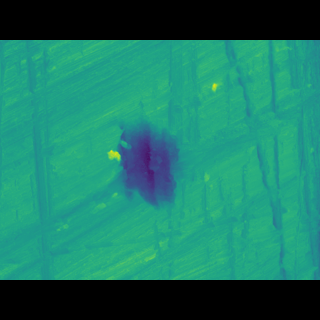Loch: (0, 188, 318, 248), (102, 123, 184, 201), (21, 69, 55, 250)
